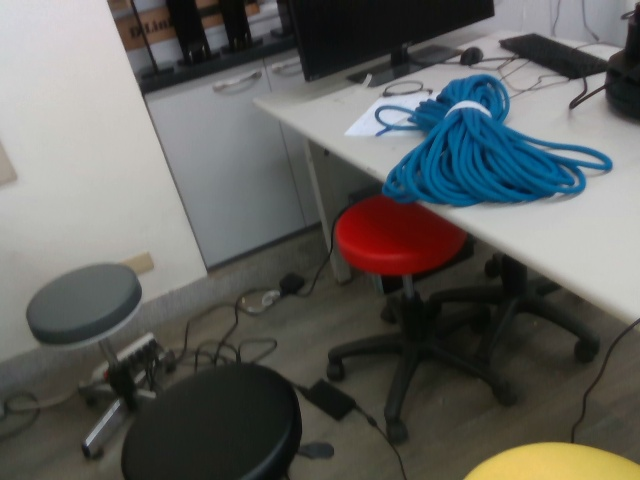rope: (374, 73, 620, 208)
